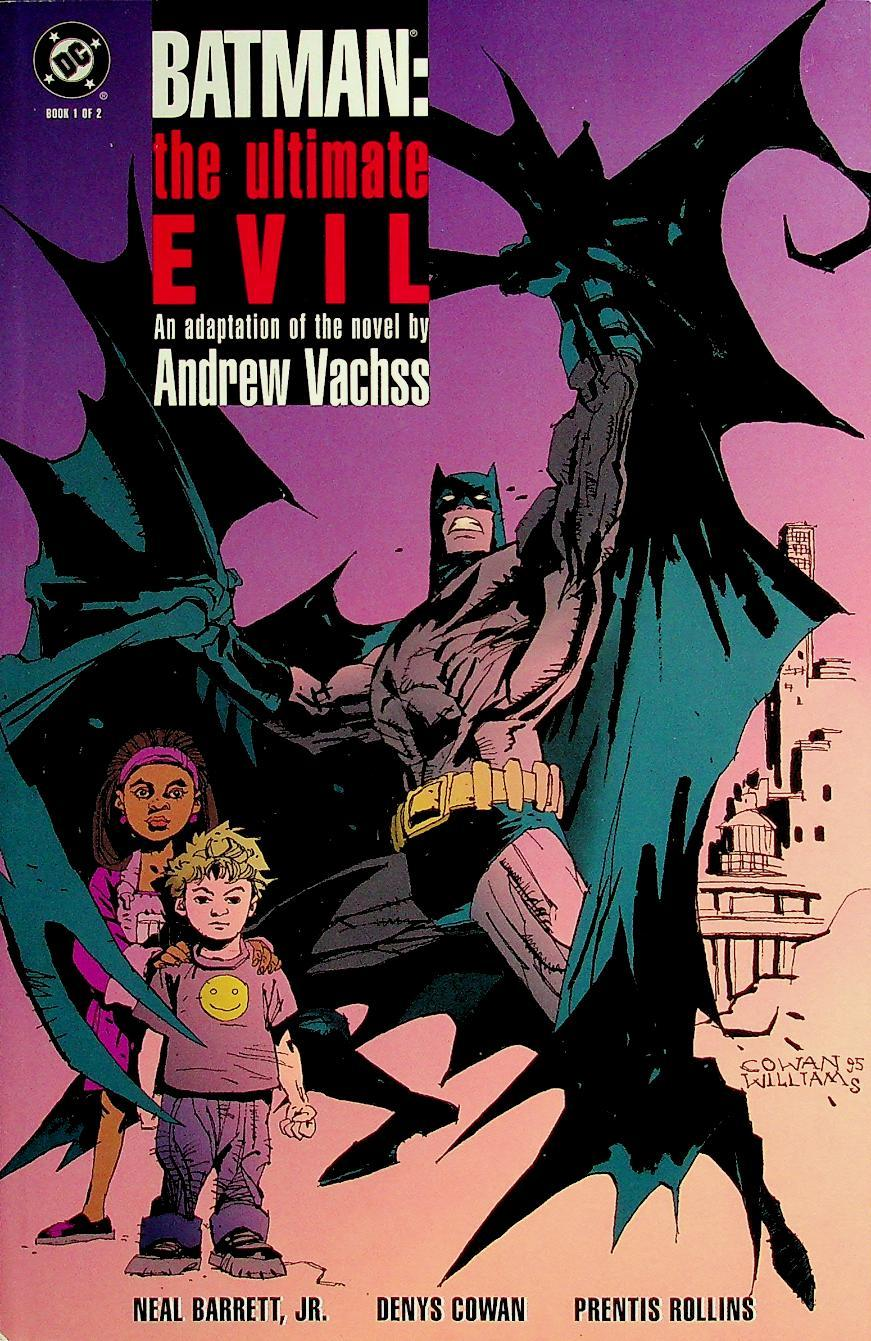comic: (0, 0, 868, 1340)
